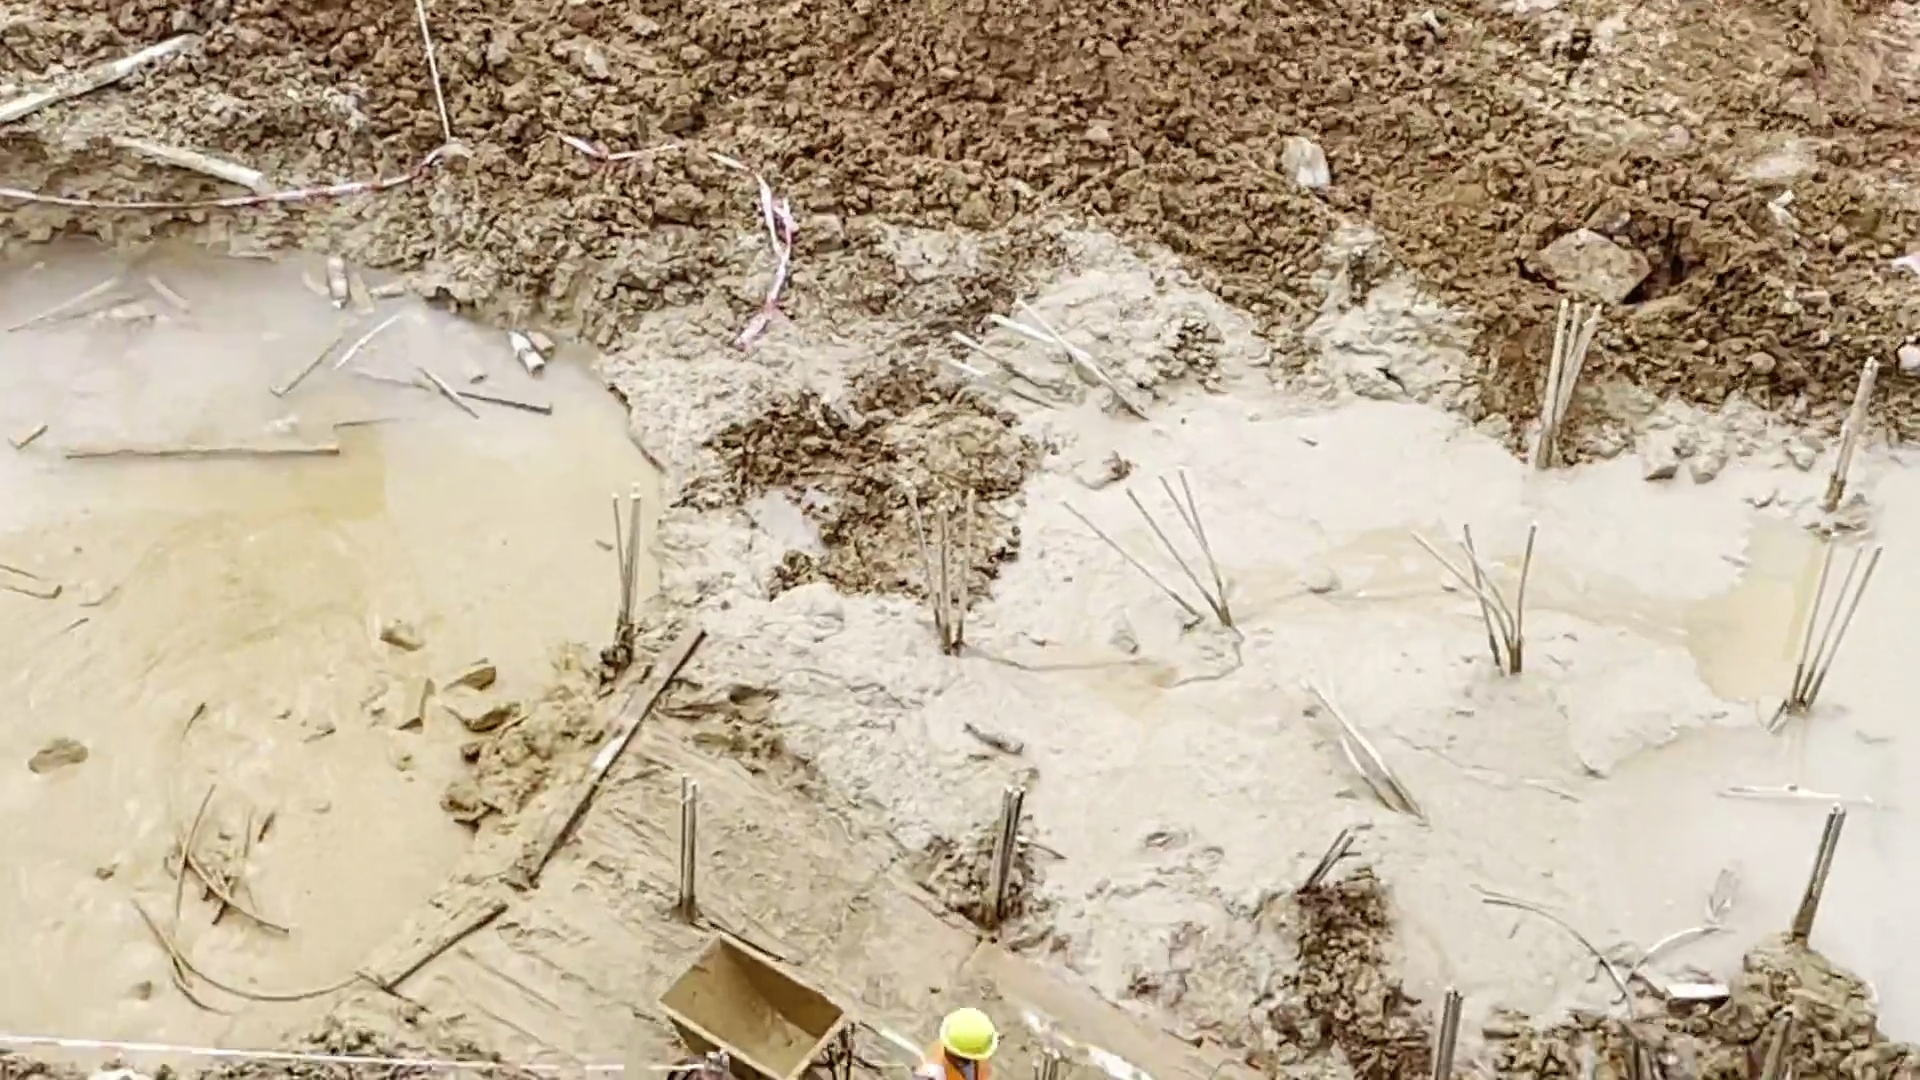handcart: (658, 936, 883, 1077)
helmet: (940, 1003, 1002, 1058)
person: (914, 1007, 999, 1080)
